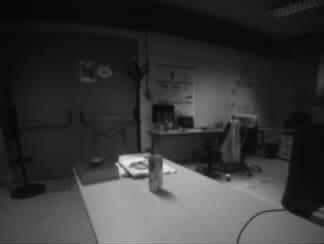Tin can: (148, 153, 163, 193)
